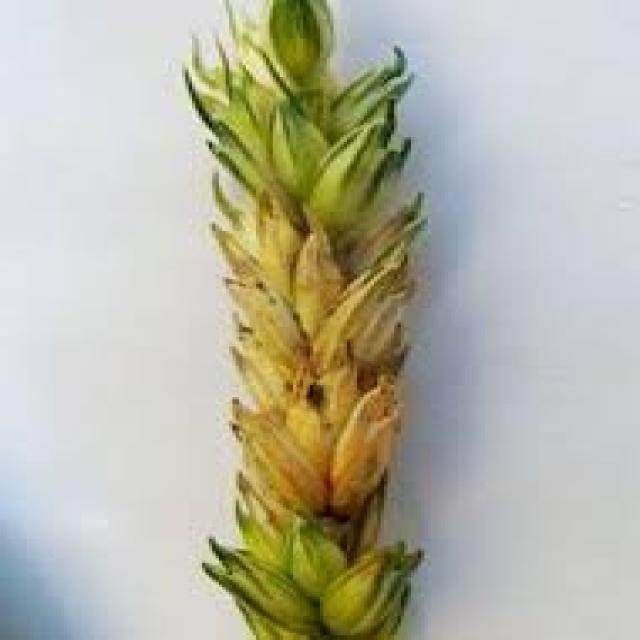Wheathead: (176, 0, 436, 639)
